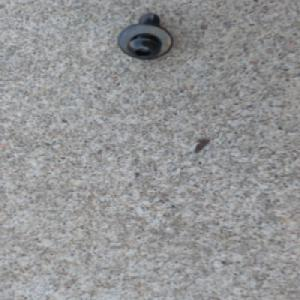BoltWasher: (114, 12, 174, 60)
